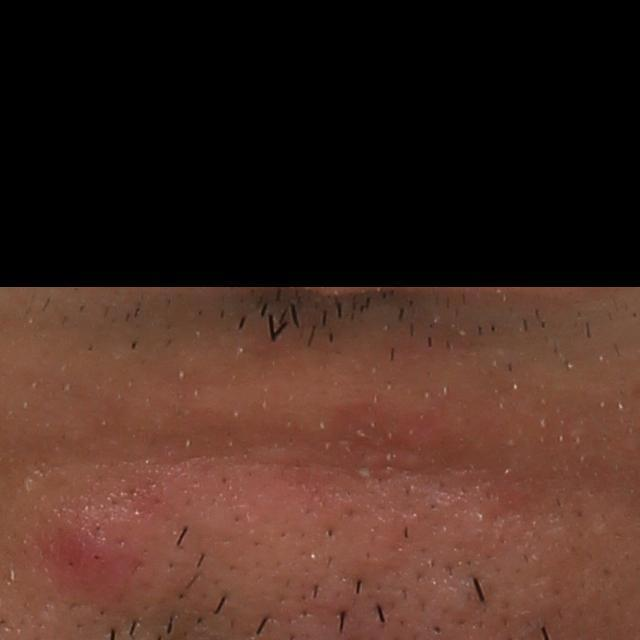papule: (37, 512, 139, 609)
